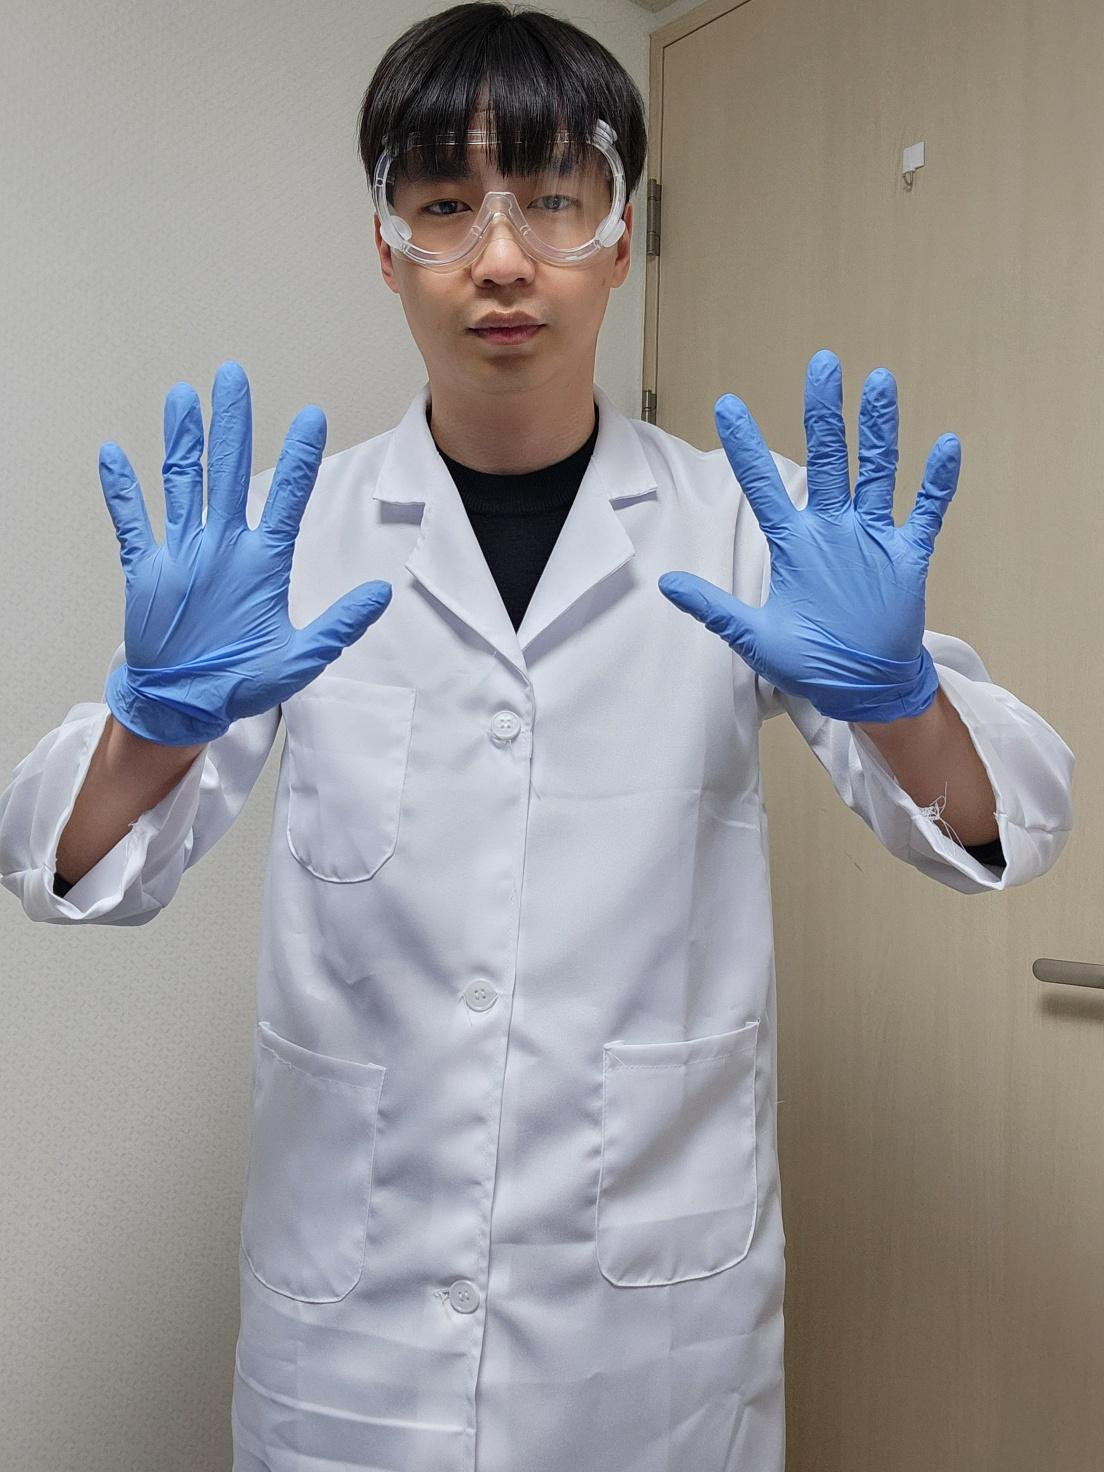lab_coat: (2, 381, 1073, 1471)
